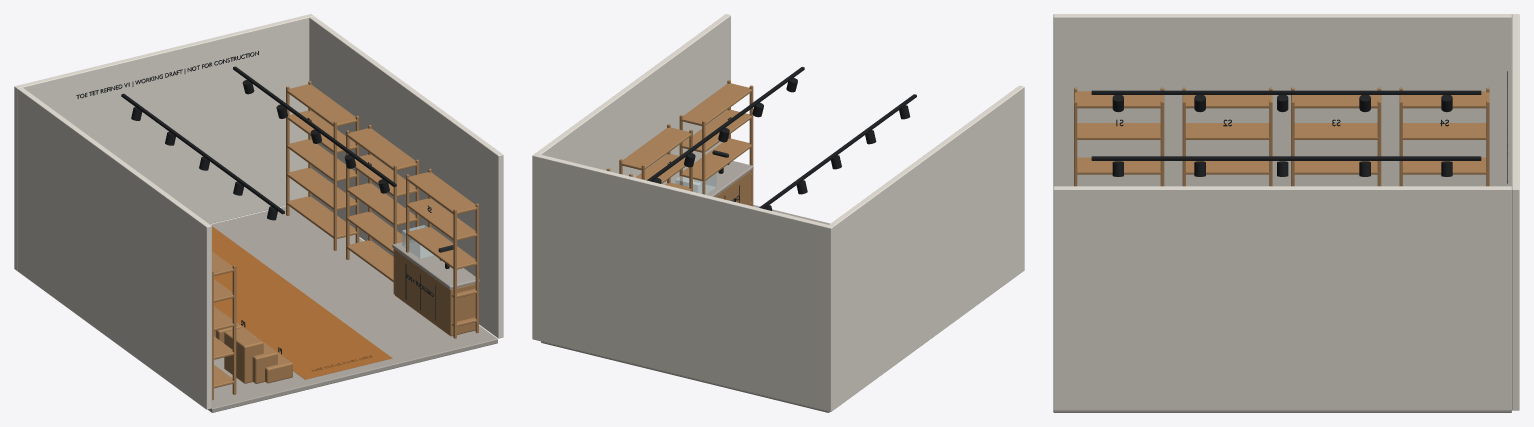
Rendered from TOE_TET_REFINED_V1.glb.
The picture shows the model from 3 angles, left to right: view 1: azimuth 30°, elevation 25°; view 2: azimuth 150°, elevation 25°; view 3: azimuth 270°, elevation 25°; orthographic projection. The views are drawn at different scales.
Parts seen in each view (by area): view 1: WALL_LEFT, WALL_REAR, WALL_RIGHT, FLOOR_MICROCEMENT_5238x6000, GUIDE_MAIN_AISLE_CLEAR_1600, CHECKOUT_OAK_CARCASS, CHECKOUT_MICROCEMENT_TOP, P1_TIER_3, S7_SHELF_5, S6_SHELF_5, S5_SHELF_5, S5_SHELF_4 (+19 smaller); view 2: WALL_REAR, WALL_LEFT, WALL_RIGHT, S6_SHELF_5, S5_SHELF_5, S5_SHELF_3, CHECKOUT_MICROCEMENT_TOP, S5_SHELF_4, TRACK_RAIL_-1.0, TRACK_RAIL_+1.0, FLOOR_MICROCEMENT_5238x6000, CHECKOUT_OAK_CARCASS (+2 smaller); view 3: WALL_RIGHT, WALL_LEFT, WALL_REAR, TRACK_RAIL_+1.0, TRACK_RAIL_-1.0, S1_SHELF_4, S2_SHELF_4, S3_SHELF_4, S4_SHELF_4, FLOOR_MICROCEMENT_5238x6000, S1_SHELF_5, S4_SHELF_5 (+6 smaller).
Part boxes in pixels (box(x1,y1,x2,y2)): WALL_LEFT: box(17, 87, 211, 409); WALL_REAR: box(14, 14, 313, 270); WALL_RIGHT: box(309, 16, 503, 338); FLOOR_MICROCEMENT_5238x6000: box(208, 206, 497, 412); GUIDE_MAIN_AISLE_CLEAR_1600: box(212, 226, 392, 379); CHECKOUT_OAK_CARCASS: box(394, 249, 475, 336); CHECKOUT_MICROCEMENT_TOP: box(392, 240, 479, 289); P1_TIER_3: box(224, 327, 263, 383); S7_SHELF_5: box(286, 84, 358, 126); S6_SHELF_5: box(347, 128, 418, 170); S5_SHELF_5: box(407, 172, 477, 214); S5_SHELF_4: box(407, 198, 477, 240); WALL_REAR: box(532, 153, 833, 411); WALL_LEFT: box(829, 85, 1024, 409); WALL_RIGHT: box(536, 14, 730, 185); S6_SHELF_5: box(621, 127, 692, 170); S5_SHELF_5: box(680, 83, 752, 125); S5_SHELF_3: box(680, 138, 752, 181); CHECKOUT_MICROCEMENT_TOP: box(687, 161, 753, 196); S5_SHELF_4: box(680, 110, 752, 152); TRACK_RAIL_-1.0: box(759, 94, 916, 208); TRACK_RAIL_+1.0: box(647, 67, 804, 181); FLOOR_MICROCEMENT_5238x6000: box(541, 205, 829, 412); CHECKOUT_OAK_CARCASS: box(715, 171, 751, 205); WALL_RIGHT: box(1053, 186, 1511, 410); WALL_LEFT: box(1053, 14, 1511, 186); WALL_REAR: box(1512, 14, 1519, 410); TRACK_RAIL_+1.0: box(1091, 156, 1481, 160); TRACK_RAIL_-1.0: box(1091, 90, 1481, 94); S1_SHELF_4: box(1075, 123, 1162, 139); S2_SHELF_4: box(1183, 123, 1271, 139); S3_SHELF_4: box(1292, 123, 1379, 139); S4_SHELF_4: box(1400, 123, 1488, 139); FLOOR_MICROCEMENT_5238x6000: box(1053, 410, 1511, 412); S1_SHELF_5: box(1074, 91, 1164, 108); S4_SHELF_5: box(1399, 91, 1489, 108).
Size of the model in its own units: 5.44 by 3.28 by 6.1.
